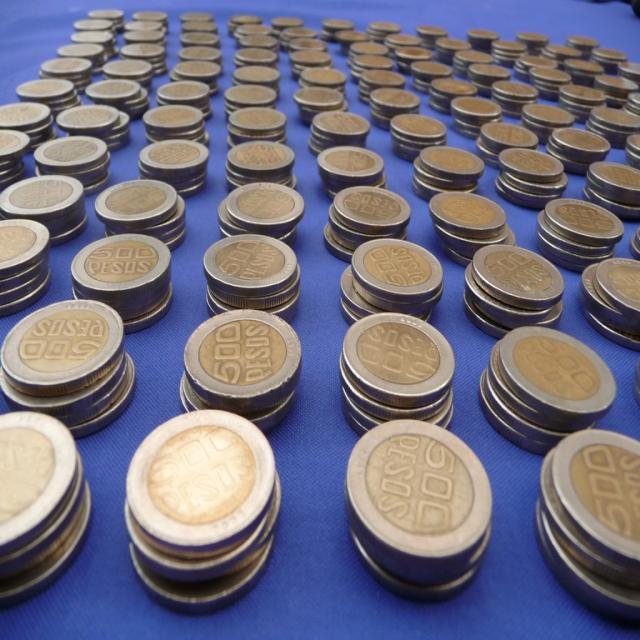Coin: (0, 5, 640, 627)
